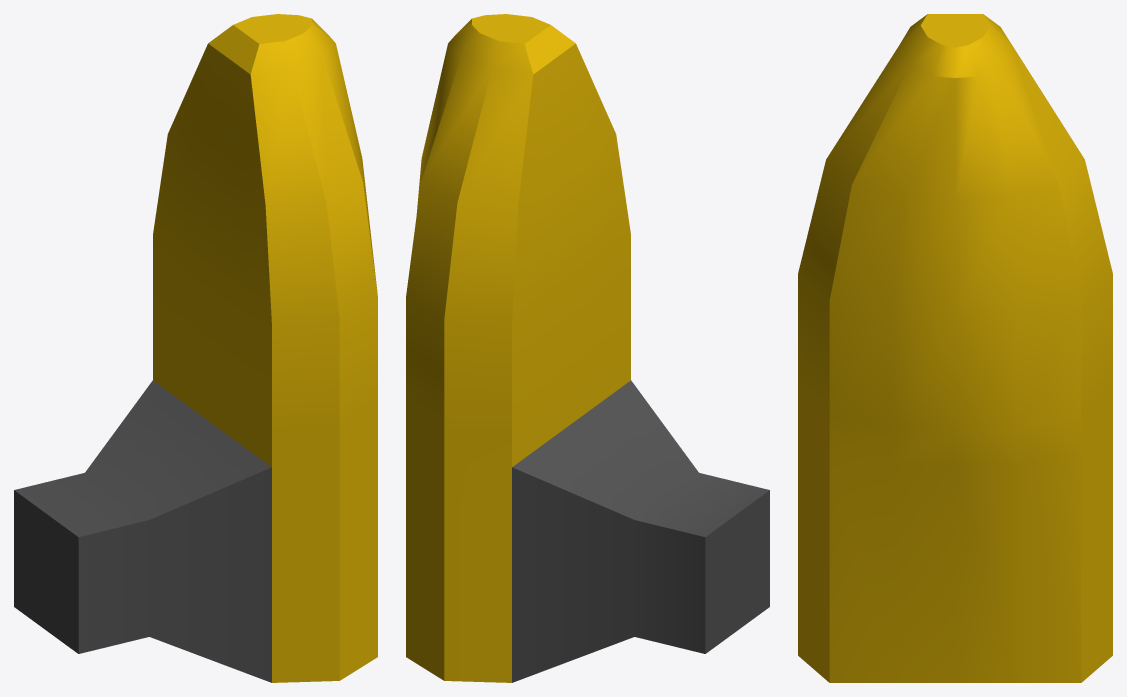
Rendered from NightLight.fbx.
3 views of the same model, side by side, from view 1: azimuth 30°, elevation 25°; view 2: azimuth 150°, elevation 25°; view 3: azimuth 270°, elevation 25° (orthographic). The views are drawn at different scales.
Parts seen in each view (by area): view 1: NightLight; view 2: NightLight; view 3: NightLight.
Boxes of the visible parts, box(x1,y1,x2,y2) form: NightLight: box(14, 14, 377, 682); NightLight: box(406, 14, 769, 682); NightLight: box(798, 14, 1112, 682).
Size of the model in its own units: 297 by 553 by 250.
